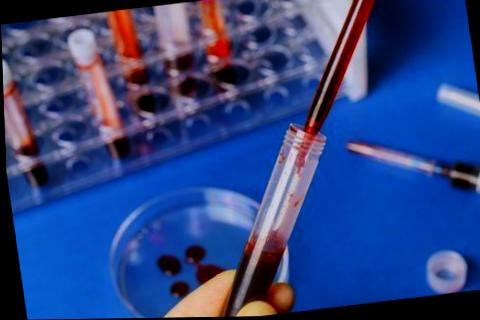Fire: (303, 0, 375, 135), (222, 232, 286, 318), (184, 247, 223, 285), (156, 257, 179, 276), (169, 283, 187, 298)
